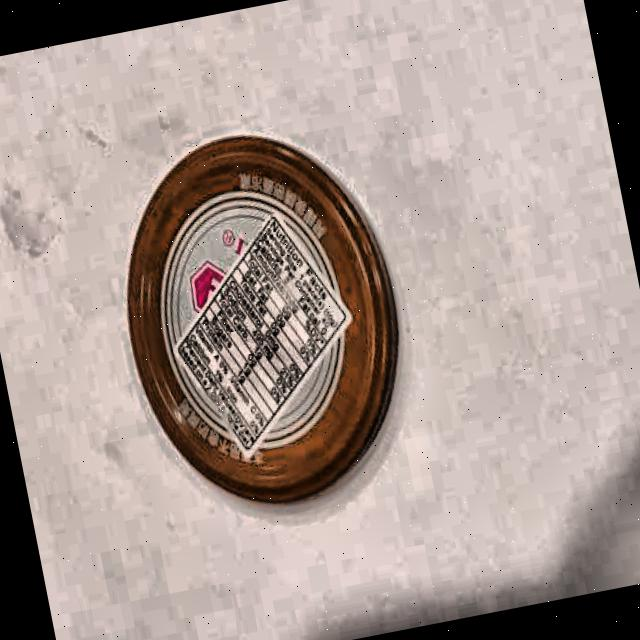metal: (94, 114, 433, 516)
